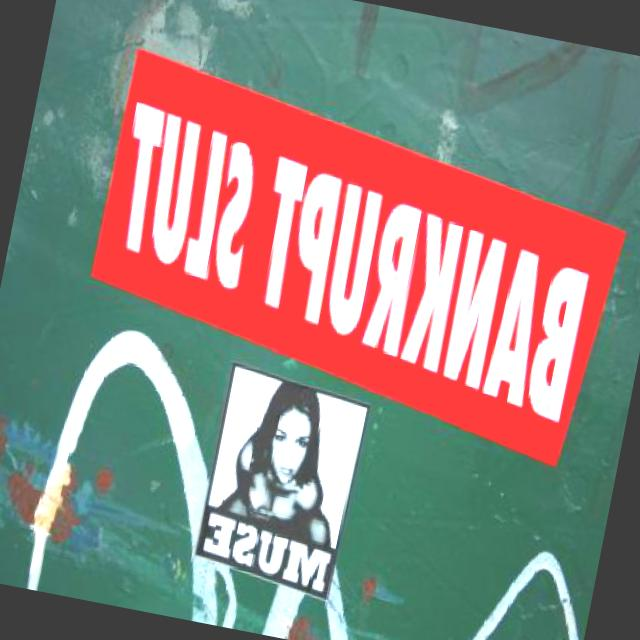Person: (208, 363, 365, 558)
